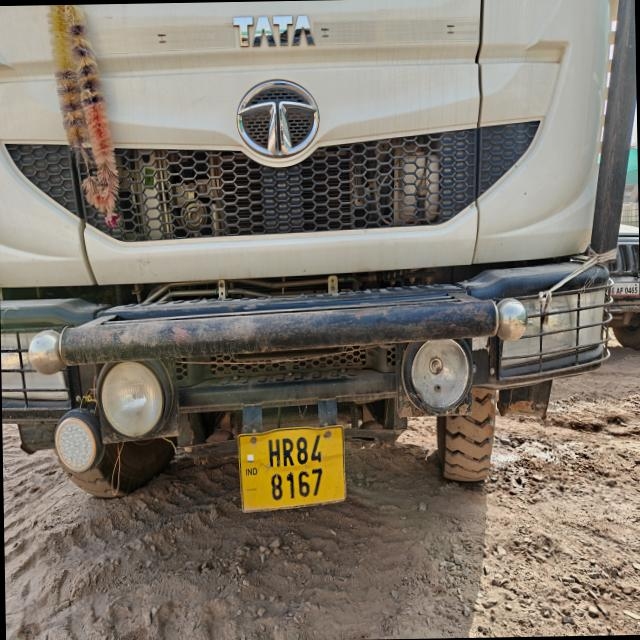license_plate: (238, 426, 346, 511), (611, 282, 639, 296)
